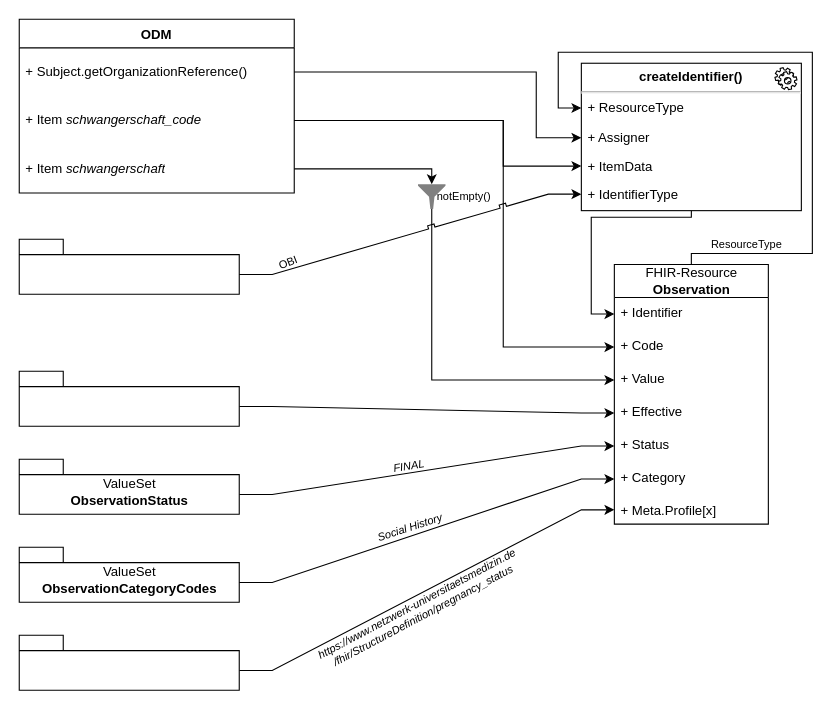
The diagram is 840 pixels wide and 710 high, and some of its shapes have lost their labels. Each missing label, with the centre of its shape:
"Extension UnknownDateTime" goes at (x=128, y=398).
"GECCO Profiles" goes at (x=128, y=662).
"ValueSet IdentifierTypeCodes" goes at (x=128, y=266).
